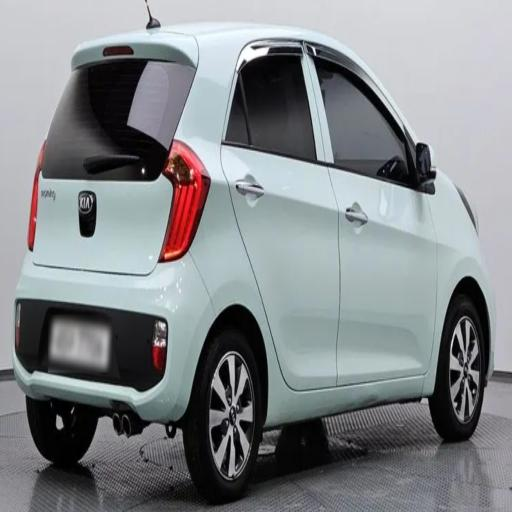broken: (222, 30, 340, 84)
scratch: (152, 240, 196, 334)
